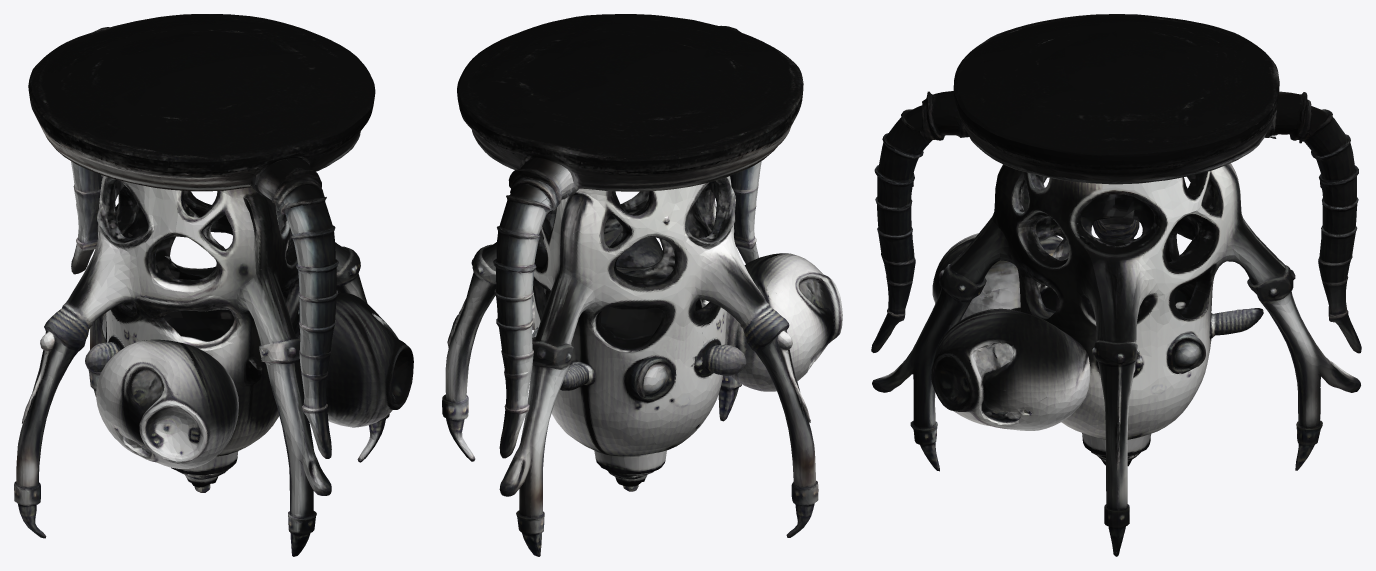
The model's file is sample (8).glb.
3 renders of one model, left to right at view 1: azimuth 30°, elevation 25°; view 2: azimuth 150°, elevation 25°; view 3: azimuth 270°, elevation 25°, orthographic. The views are drawn at different scales.
Parts seen in each view (by area): view 1: world; view 2: world; view 3: world.
Boxes of the visible parts, x1=… form: world: x1=14, y1=14, x2=413, y2=556; world: x1=442, y1=14, x2=842, y2=556; world: x1=871, y1=14, x2=1361, y2=556.
Bounding box in the file's own units: 0.8255 × 0.9234 × 0.9781.
Materials: 1 (1 with a texture image).
